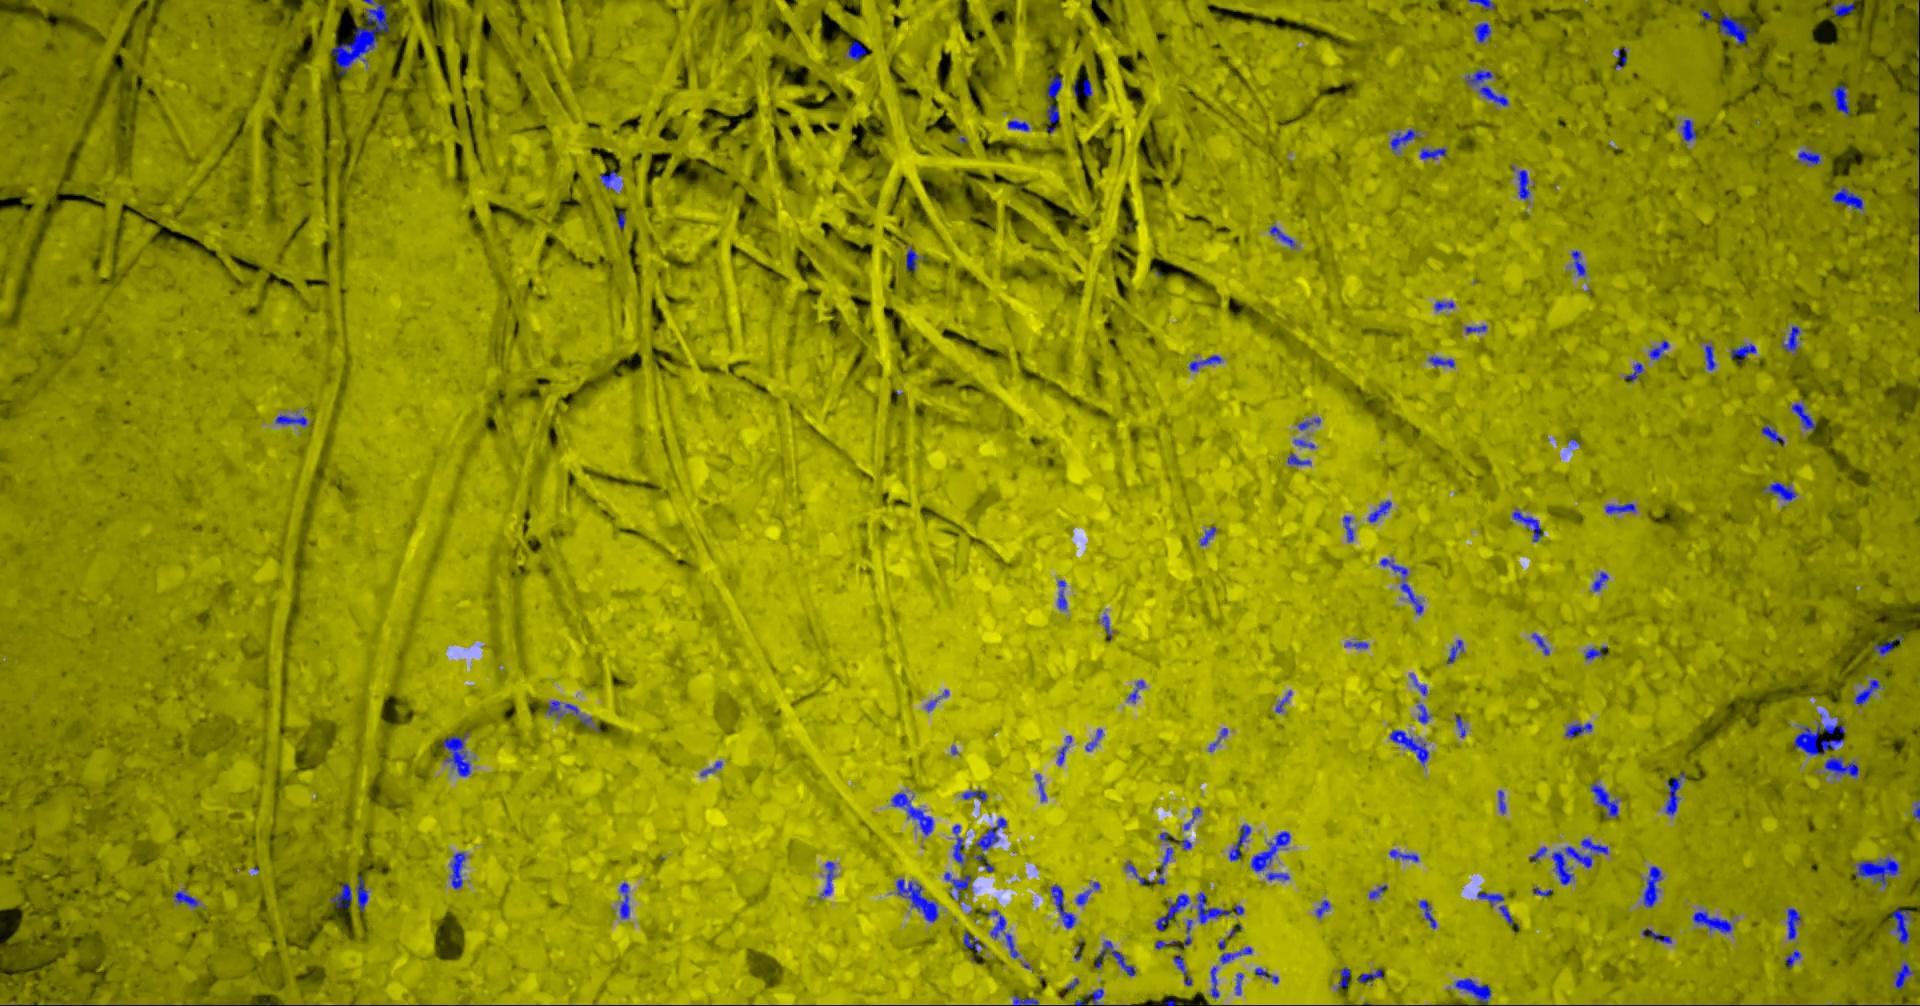ant: (1550, 838, 1608, 884), (1380, 558, 1423, 614), (895, 878, 938, 921), (890, 793, 933, 835), (1793, 721, 1844, 754), (1250, 831, 1290, 871), (985, 909, 1018, 958), (1465, 69, 1509, 105), (1095, 940, 1135, 976), (1389, 729, 1429, 763), (439, 733, 470, 776), (1854, 856, 1898, 885), (1156, 894, 1189, 930), (1476, 892, 1512, 923), (1718, 11, 1752, 44), (1050, 884, 1076, 929), (1196, 892, 1230, 923), (1453, 977, 1491, 1005), (975, 817, 1006, 850), (1511, 511, 1543, 541), (1663, 771, 1685, 815), (1590, 782, 1618, 817), (1691, 911, 1733, 934), (1217, 939, 1252, 963), (1642, 865, 1662, 907), (1228, 824, 1250, 860), (1823, 756, 1858, 777), (1831, 185, 1862, 210), (943, 871, 970, 898), (1389, 128, 1418, 152), (1790, 401, 1815, 429), (1156, 847, 1173, 884), (1761, 481, 1796, 500), (1891, 908, 1910, 942), (1872, 635, 1903, 655), (1854, 680, 1879, 704), (1269, 225, 1295, 248), (1831, 84, 1849, 116), (450, 851, 465, 888), (1189, 354, 1222, 371), (1173, 954, 1191, 984), (820, 861, 836, 895), (1418, 899, 1436, 929), (330, 883, 350, 908), (1895, 963, 1914, 989), (1368, 500, 1390, 522), (173, 888, 198, 907), (1785, 907, 1801, 939), (952, 824, 964, 865), (963, 931, 985, 951), (1564, 721, 1592, 738), (1782, 325, 1799, 351), (1730, 343, 1755, 361), (356, 875, 368, 911), (276, 412, 306, 426), (1641, 929, 1671, 942), (1761, 426, 1783, 445), (1045, 104, 1059, 133), (1046, 75, 1062, 102), (1274, 690, 1291, 713), (1084, 728, 1102, 751), (1183, 807, 1201, 829), (1680, 119, 1697, 144), (1446, 639, 1463, 663), (1057, 735, 1070, 763), (847, 39, 866, 60), (599, 170, 618, 191), (1623, 362, 1643, 381), (1388, 848, 1418, 861), (1531, 633, 1549, 654), (1128, 680, 1144, 702), (1255, 967, 1277, 983), (618, 882, 629, 918), (1072, 77, 1091, 97), (1650, 340, 1669, 359), (1831, 0, 1853, 17), (1473, 22, 1490, 43), (1410, 673, 1426, 695), (1571, 250, 1585, 276), (1357, 969, 1383, 983), (1517, 169, 1529, 199), (1199, 525, 1215, 545), (700, 760, 721, 775), (1429, 354, 1454, 367), (1418, 147, 1446, 159), (1797, 150, 1820, 164), (1583, 645, 1606, 659), (1034, 774, 1045, 801), (1783, 950, 1801, 968), (1084, 988, 1103, 1005), (1605, 503, 1636, 513), (1297, 417, 1321, 429), (545, 700, 563, 716), (1704, 344, 1716, 370), (1592, 572, 1608, 591), (961, 790, 987, 801), (905, 246, 917, 271), (1342, 514, 1352, 541), (1288, 453, 1310, 465), (1057, 579, 1065, 608), (1101, 615, 1111, 640), (1337, 967, 1350, 987), (1012, 995, 1037, 1005), (1529, 846, 1545, 861), (1467, 0, 1495, 9), (1368, 884, 1385, 898), (1316, 899, 1330, 917), (1614, 47, 1625, 69), (1007, 119, 1029, 131), (1210, 967, 1218, 998), (1076, 889, 1091, 904), (1154, 939, 1177, 949), (1183, 920, 1192, 945), (1293, 438, 1314, 448), (1455, 715, 1465, 737), (1417, 704, 1429, 723), (1434, 300, 1454, 310), (1234, 972, 1243, 995), (1531, 887, 1552, 895), (1266, 873, 1289, 880), (616, 210, 625, 229), (1464, 325, 1486, 333), (1345, 641, 1368, 648), (1498, 790, 1505, 813)
